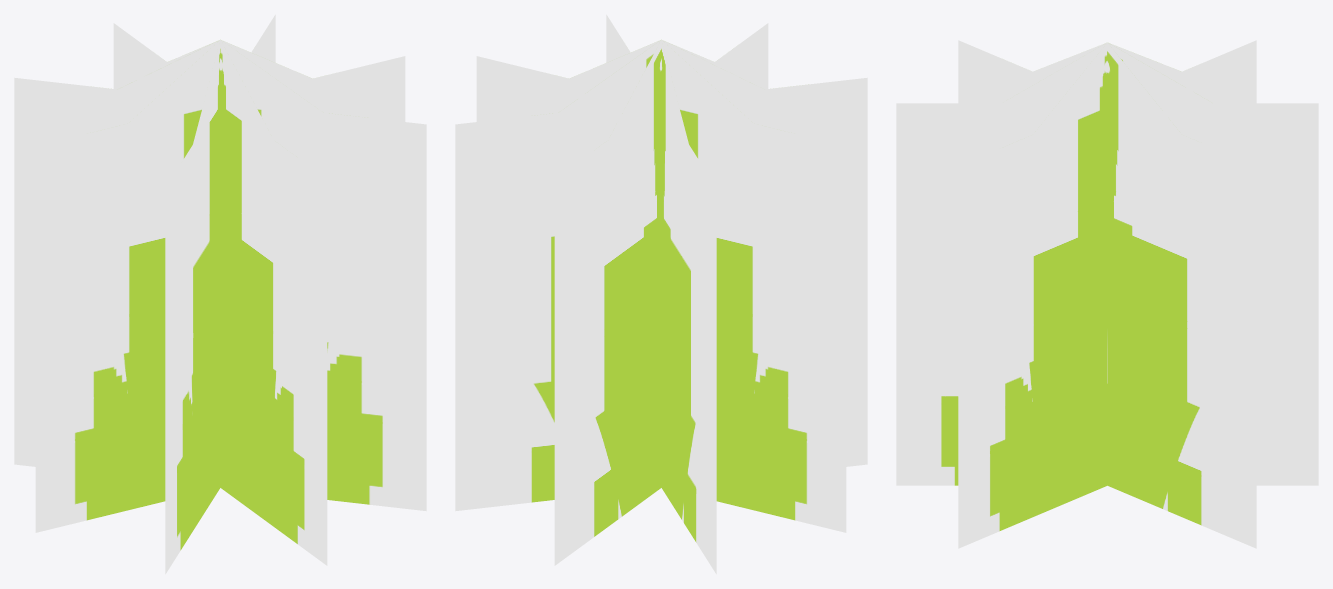
File: HERBE.FBX
3 views of the same model, side by side, from view 1: azimuth 30°, elevation 25°; view 2: azimuth 150°, elevation 25°; view 3: azimuth 270°, elevation 25° (orthographic).
Parts seen in each view (by area): view 1: Plane005; view 2: Plane005; view 3: Plane005.
Part boxes in pixels (left/top/right/bottom): Plane005: left=14, top=14, right=426, bottom=574; Plane005: left=455, top=14, right=867, bottom=574; Plane005: left=896, top=40, right=1318, bottom=548.
Size of the model in its own units: 204 by 236 by 204.
Materials: 1 (1 with a texture image).
